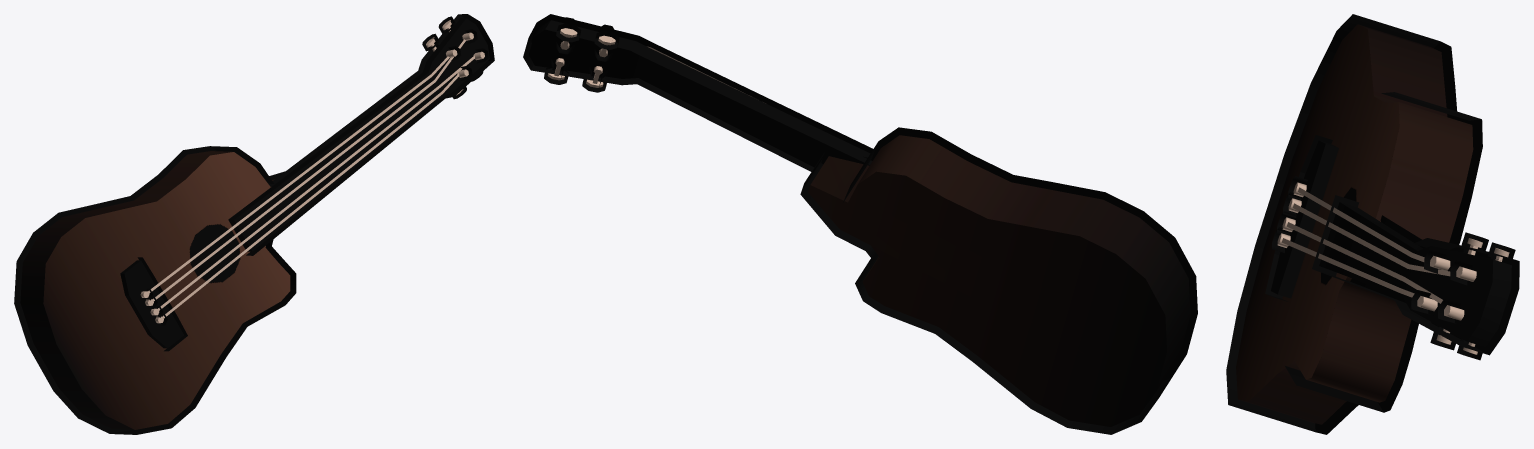
The model's file is guitar.glb.
3 views of the same model, side by side, from view 1: azimuth 30°, elevation 25°; view 2: azimuth 150°, elevation 25°; view 3: azimuth 270°, elevation 25° (orthographic). The views are drawn at different scales.
Visible parts, largest first — view 1: Plane, Plane.001, Cylinder, Cube; view 2: Plane, Plane.001, Cylinder; view 3: Plane, Plane.001, Cylinder, Cube.
Boxes of the visible parts, x1,y1,x2,y2 form: Plane: [14, 146, 296, 434]; Plane.001: [228, 14, 494, 255]; Cylinder: [140, 16, 488, 325]; Cube: [120, 257, 187, 351]; Plane: [800, 127, 1197, 434]; Plane.001: [523, 14, 873, 171]; Cylinder: [544, 17, 765, 103]; Plane: [1226, 14, 1482, 434]; Plane.001: [1312, 195, 1519, 355]; Cylinder: [1272, 176, 1515, 360]; Cube: [1265, 135, 1338, 301].
Size of the model in its own units: 449 by 244 by 130.
Materials: 5 (5 with a texture image).
